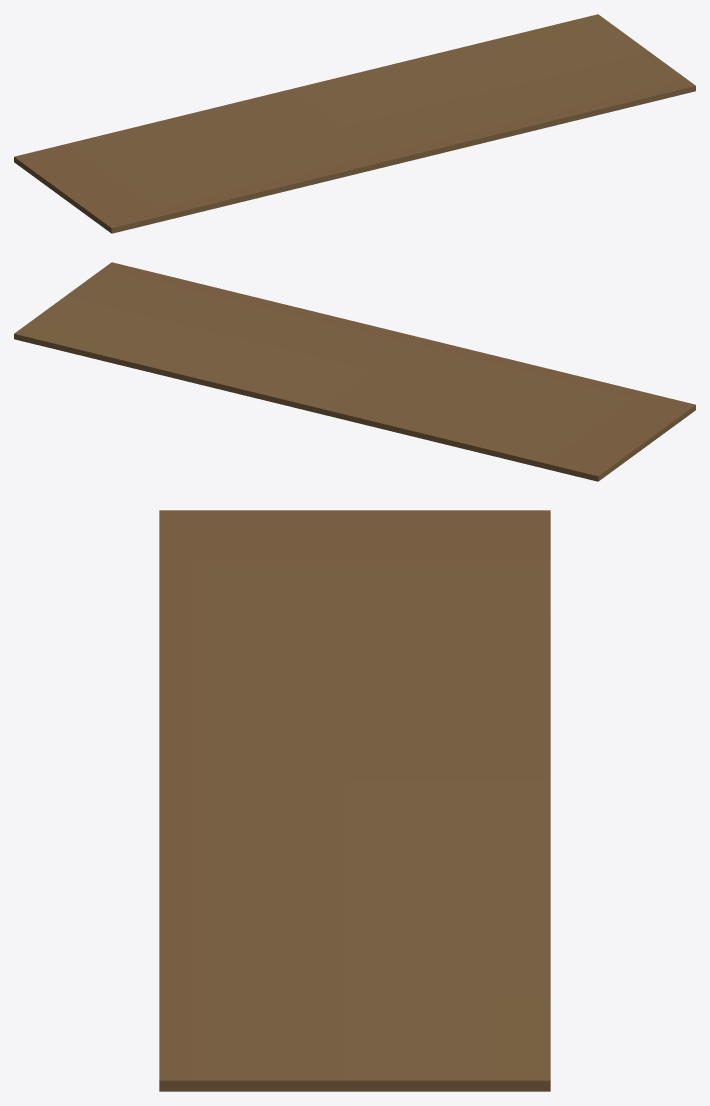
File: ceiling.glb
3 renders of one model, top to bottom at view 1: azimuth 30°, elevation 25°; view 2: azimuth 150°, elevation 25°; view 3: azimuth 270°, elevation 25°, orthographic. The views are drawn at different scales.
Visible parts, largest first — view 1: Surface; view 2: Surface; view 3: Surface.
Boxes of the visible parts, x1,y1,x2,y2 form: Surface: [14, 14, 695, 233]; Surface: [14, 262, 695, 481]; Surface: [159, 510, 550, 1091].
Bounding box in the file's own units: 2 × 0.0439 × 0.5799.
